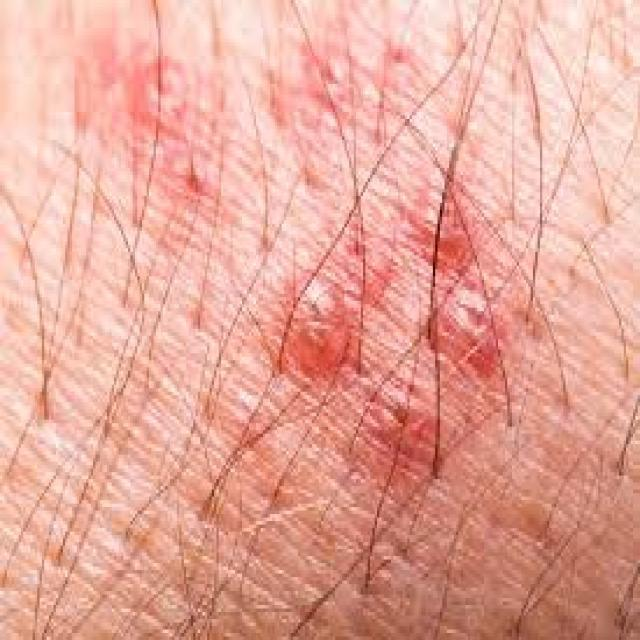Shingles: (77, 36, 501, 466)
